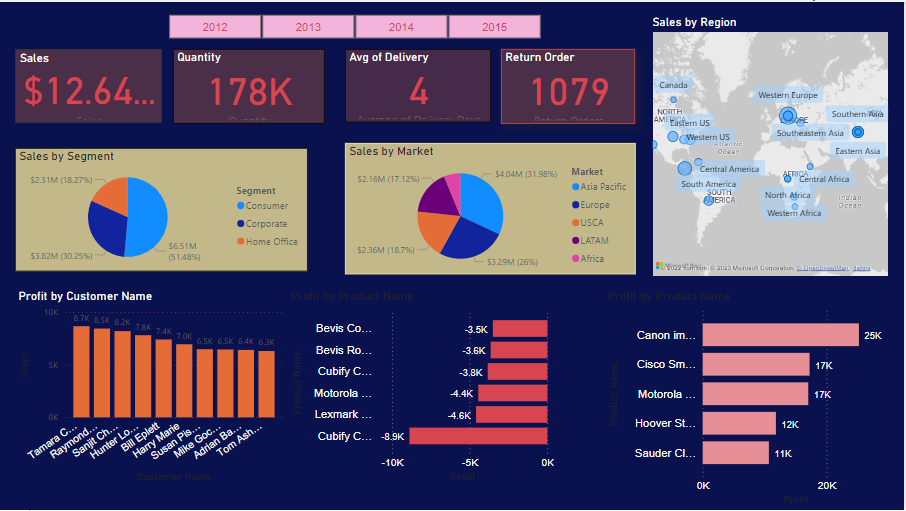

Layout of this report page (visuals, bound fields, positions):
{"tool":"powerbi","page":{"name":"Page 1","canvas":[1280,720],"ordinal":0},"visuals":[{"type":"card","title":"Sales","fields":{"Values":["Sum(Orders.Sales)"]},"box":[21.8,67.2,208.3,105],"z":0},{"type":"card","title":"Quantity","fields":{"Values":["Sum(Orders.Quantity)"]},"box":[245.2,67.2,215,105.8],"z":1},{"type":"card","title":"Avg of Delivery","fields":{"Values":["Avg(Orders.Delivery Days)"]},"box":[488.8,67.2,206.6,104.1],"z":2},{"type":"slicer","fields":{"Values":["Orders.Year"]},"box":[213.3,11.8,576.2,47],"z":3},{"type":"card","title":"Return Order","fields":{"Values":["Sum(Returns.Return Orders)"]},"box":[710.6,67.2,189.8,105.8],"z":4},{"type":"map","fields":{"Category":["Orders.Region"],"Size":["Sum(Orders.Sales)"]},"box":[920.5,18.5,344.4,374.6],"z":5},{"type":"clusteredBarChart","fields":{"Y":["Sum(Orders.Profit)"],"Category":["Orders.Product Name"]},"box":[856.7,406.5,423.3,312.4],"z":6},{"type":"clusteredBarChart","fields":{"Y":["Sum(Orders.Profit)"],"Category":["Orders.Product Name"]},"box":[406.5,406.5,383,278.8],"z":7},{"type":"pieChart","fields":{"Category":["Orders.Segment"],"Y":["Sum(Orders.Sales)"]},"box":[21.8,206.6,414.9,174.7],"z":8},{"type":"pieChart","fields":{"Category":["Orders.Market"],"Y":["Sum(Orders.Sales)"]},"box":[488.8,199.9,411.5,186.5],"z":9},{"type":"columnChart","fields":{"Category":["Orders.Customer Name"],"Y":["Sum(Orders.Profit)"]},"box":[21.8,406.5,384.7,278.8],"z":10}]}

Visuals, with their boxes in screenshot pixels (x1, y1, x2, y2), scaled from the page's 1280x720 canvas onto the 906x511 screenshot:
"Sales" card: [left=15, top=48, right=163, bottom=122]
"Quantity" card: [left=174, top=48, right=326, bottom=123]
"Avg of Delivery" card: [left=346, top=48, right=492, bottom=122]
slicer - Orders.Year: [left=151, top=8, right=559, bottom=42]
"Return Order" card: [left=503, top=48, right=637, bottom=123]
map - Orders.Region x Sum(Orders.Sales): [left=652, top=13, right=895, bottom=279]
clusteredBarChart - Sum(Orders.Profit) x Orders.Product Name: [left=606, top=289, right=905, bottom=510]
clusteredBarChart - Sum(Orders.Profit) x Orders.Product Name: [left=288, top=289, right=559, bottom=486]
pieChart - Orders.Segment x Sum(Orders.Sales): [left=15, top=147, right=309, bottom=271]
pieChart - Orders.Market x Sum(Orders.Sales): [left=346, top=142, right=637, bottom=274]
columnChart - Orders.Customer Name x Sum(Orders.Profit): [left=15, top=289, right=288, bottom=486]
